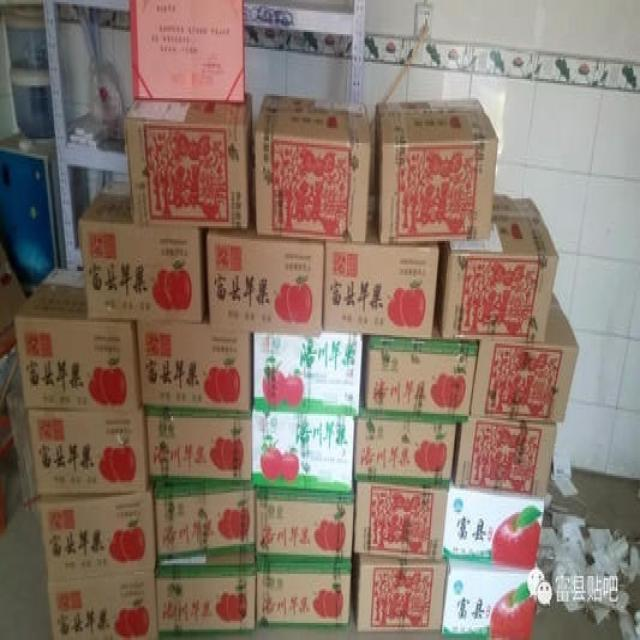Carton: (138, 230, 438, 567), (354, 292, 576, 636), (20, 122, 247, 407), (355, 337, 477, 478), (256, 92, 369, 237), (381, 96, 498, 235), (40, 493, 152, 580), (29, 412, 143, 489), (445, 256, 556, 335), (125, 92, 245, 128)
